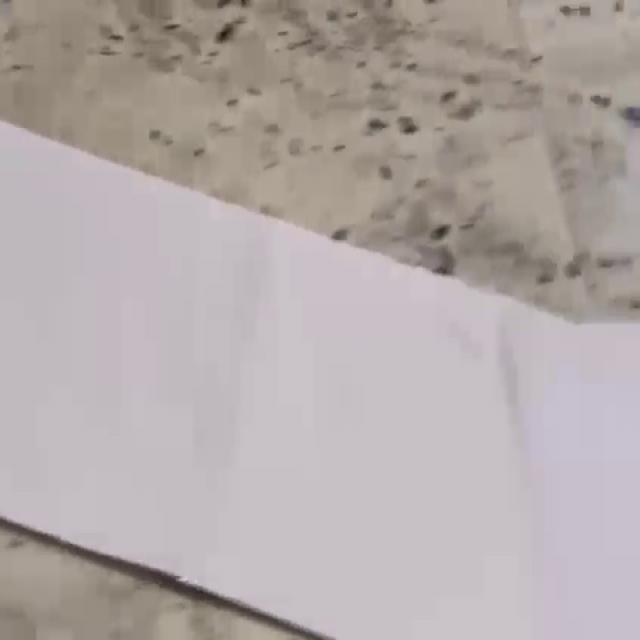road: (0, 119, 640, 640)
